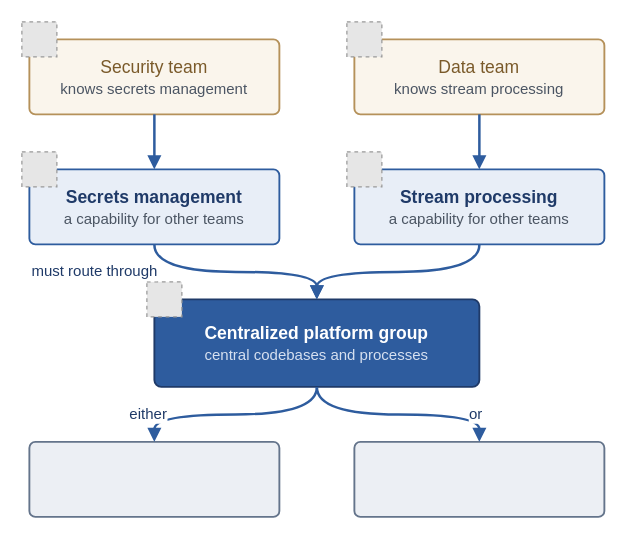
The diagram is 628 pixels wide and 540 high, and some of its shapes have lost their labels. Grey dashed boxes stand in for pictures. The centre of each missing label's shape, as x and y in pixels:
"No one owns it coordination costs too much" goes at (x=479, y=478).
"The central group owns it without the expertise" goes at (x=154, y=478).
